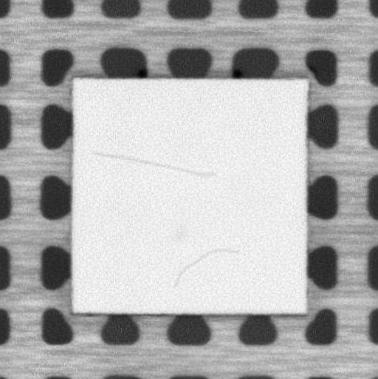DIE_CRACK: (92, 150, 215, 179), (176, 245, 239, 286)
